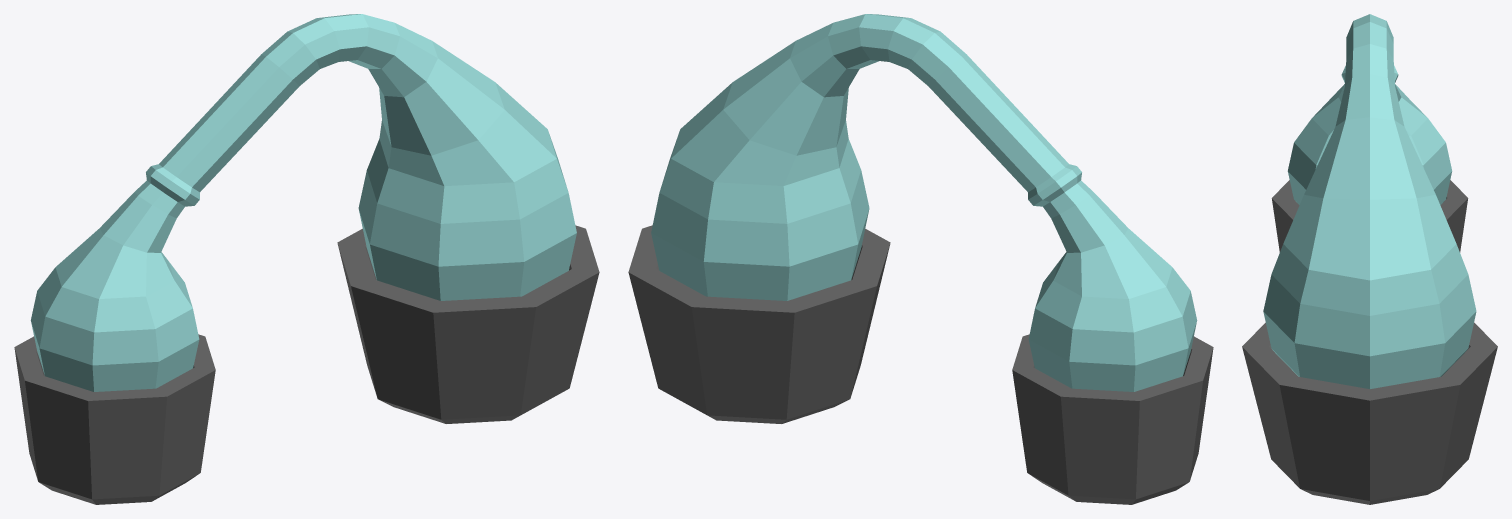
Rendered from Assets.fbx_AlembicRetort.fbx.
3 renders of one model, left to right at view 1: azimuth 30°, elevation 25°; view 2: azimuth 150°, elevation 25°; view 3: azimuth 270°, elevation 25°, orthographic. The views are drawn at different scales.
Visible parts, largest first — view 1: AlembicRetort; view 2: AlembicRetort; view 3: AlembicRetort.
Boxes of the visible parts, <box> form: AlembicRetort: <box>14,14,599,504</box>; AlembicRetort: <box>628,14,1213,504</box>; AlembicRetort: <box>1242,14,1497,504</box>.
Size of the model in its own units: 37.12 by 25.66 by 15.55.
